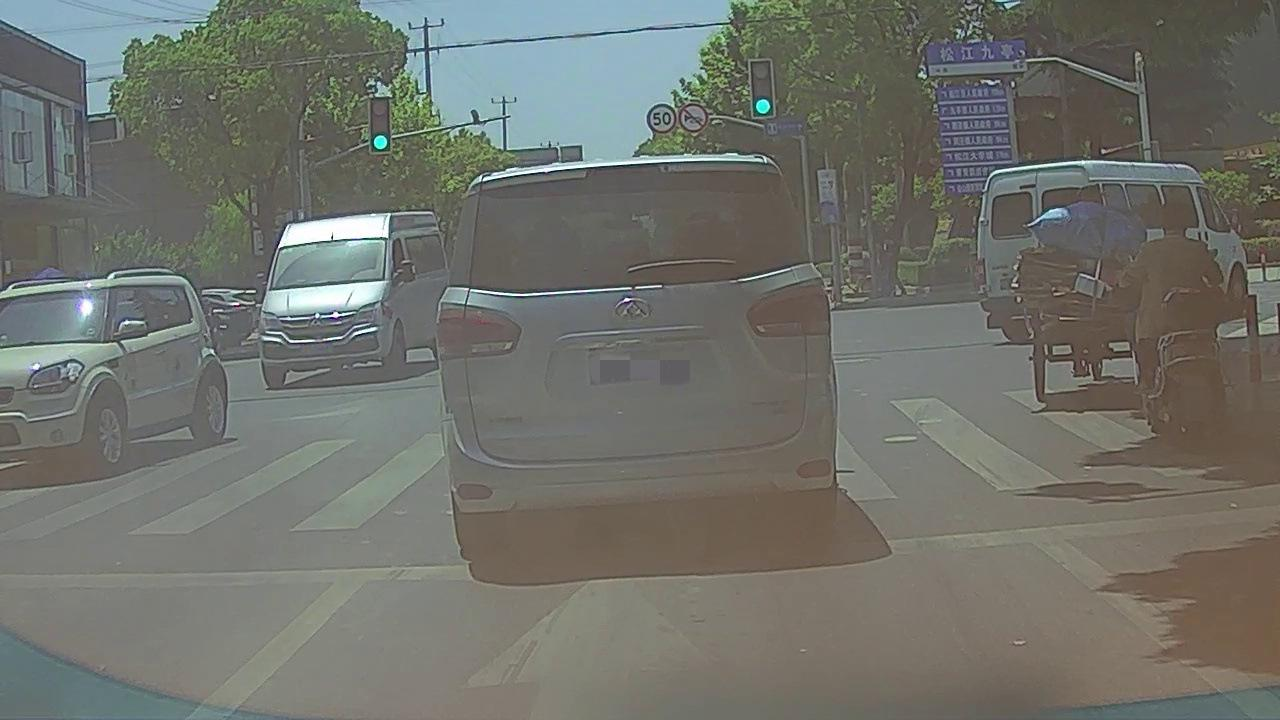traffic_light: (751, 61, 774, 118), (370, 98, 391, 153)
